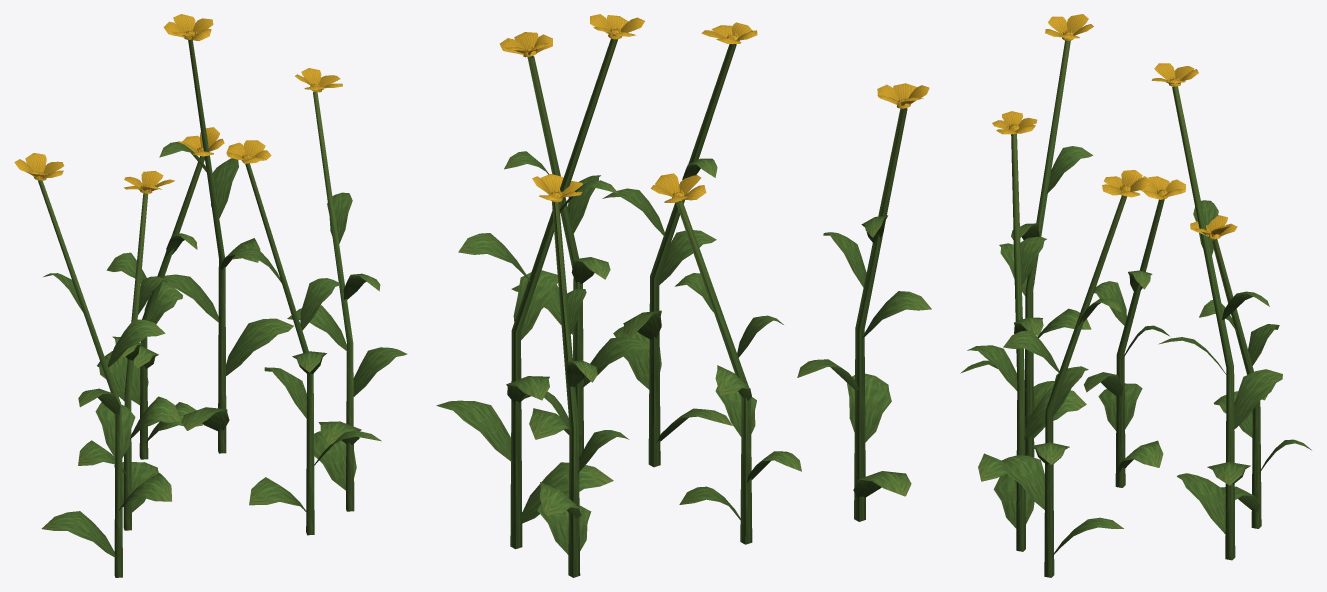
File: Buttercup_B.fbx
3 renders of one model, left to right at view 1: azimuth 30°, elevation 25°; view 2: azimuth 150°, elevation 25°; view 3: azimuth 270°, elevation 25°, orthographic. The views are drawn at different scales.
Parts seen in each view (by area): view 1: Buttercup_B_LOD0; view 2: Buttercup_B_LOD0; view 3: Buttercup_B_LOD0.
Boxes of the visible parts, box(x1,y1,x2,y2) form: Buttercup_B_LOD0: box(14, 14, 407, 577); Buttercup_B_LOD0: box(436, 14, 931, 577); Buttercup_B_LOD0: box(960, 14, 1311, 577).
Size of what is drawn, in the model's own units: 21.87 by 25.65 by 17.87.
1 material, 1 textured.
